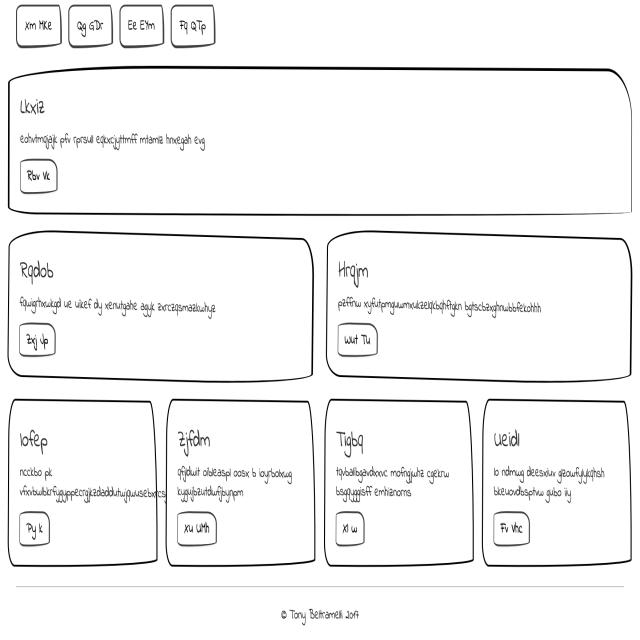Button: (336, 322, 380, 358), (176, 512, 218, 546), (18, 159, 60, 192), (18, 322, 58, 356), (492, 511, 532, 544), (18, 510, 51, 547), (334, 510, 366, 546)
Card: (8, 67, 633, 218), (6, 230, 318, 387), (322, 230, 636, 386), (320, 398, 477, 574), (480, 397, 634, 572), (5, 398, 158, 568), (166, 396, 314, 569)
Footer: (0, 583, 640, 640)
Heading 6: (177, 422, 214, 461), (335, 426, 373, 459), (493, 429, 532, 456), (19, 258, 55, 286), (339, 260, 370, 290), (18, 427, 50, 455), (17, 97, 48, 116)
Navigation Bar: (15, 2, 216, 52)
Paragraph: (338, 287, 542, 319), (21, 291, 218, 321), (17, 466, 166, 504), (21, 126, 208, 156), (493, 460, 606, 508), (176, 462, 294, 506), (334, 464, 450, 502)
